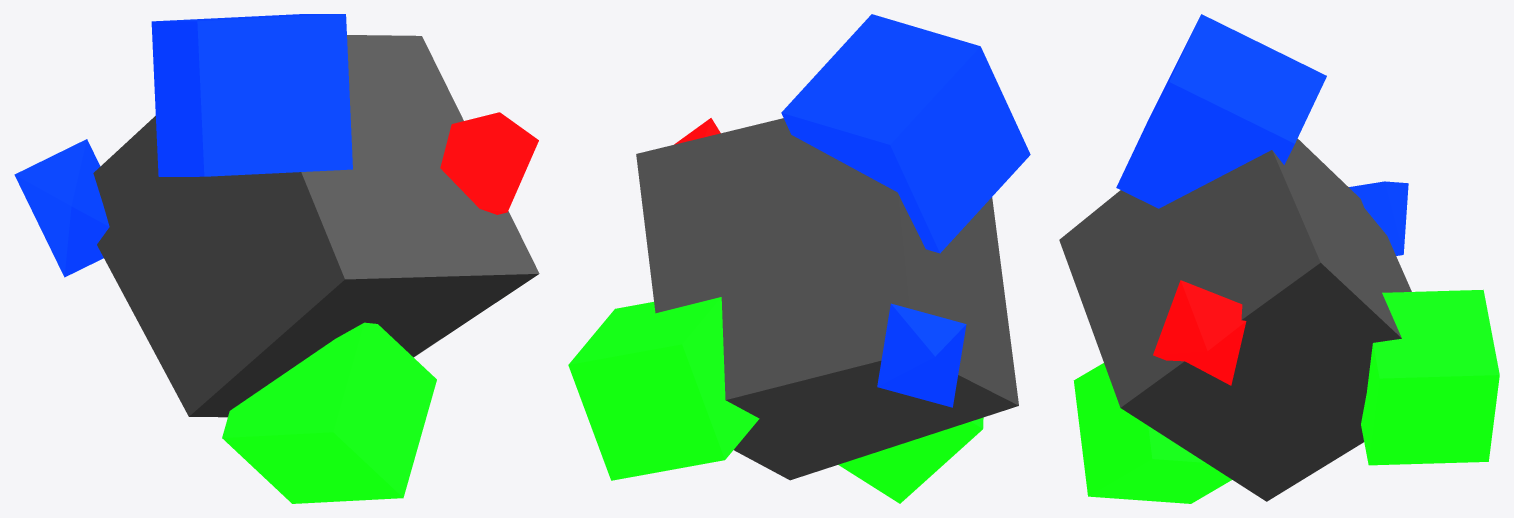
File: Item.fbx
The picture shows the model from 3 angles, left to right: view 1: azimuth 30°, elevation 25°; view 2: azimuth 150°, elevation 25°; view 3: azimuth 270°, elevation 25°; orthographic projection. The views are drawn at different scales.
Visible parts, largest first — view 1: Item; view 2: Item; view 3: Item.
Boxes of the visible parts, x1,y1,x2,y2 form: Item: (14,14,539,503); Item: (568,14,1030,503); Item: (1059,14,1499,503).
Size of the model in its own units: 67.52 by 78.11 by 69.21.
